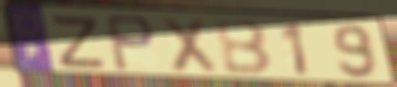1: (276, 21, 311, 78)
9: (332, 23, 383, 81)
B: (212, 19, 276, 78)
P: (103, 13, 158, 74)
X: (158, 15, 221, 77)
Z: (50, 15, 108, 71)
